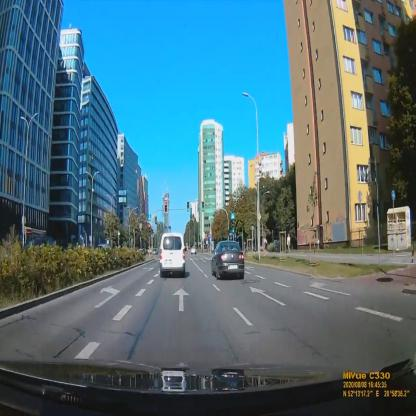cars: (212, 241, 245, 281), (159, 233, 186, 278)
